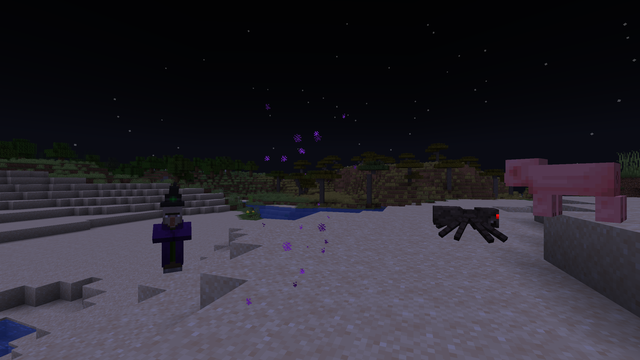araignees: (439, 202, 504, 243)
cochons: (528, 160, 629, 221)
sorcieres: (155, 202, 188, 275)
